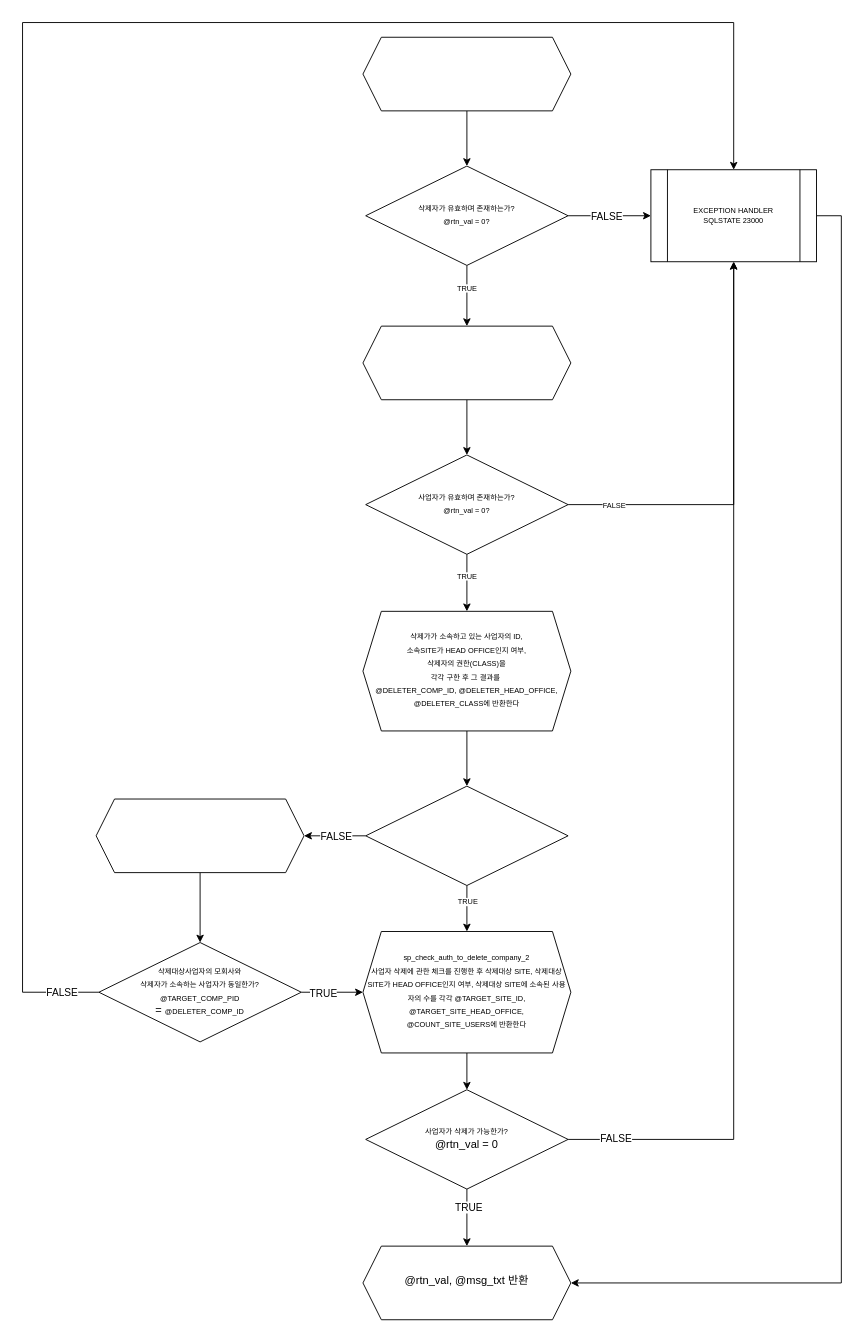
The diagram is 865 pixels wide and 1336 high, and some of its shapes have lost their labels. The shapes that lost their labels are listed below. From the top down, each one's centre as x and y in pixels, then its label:
At (x=466, y=73): "삭제자가 존재하고 유효한지 검사한 후 그 결과를 @rtn_val에 반환한다".
At (x=466, y=362): "사업자가 존재하고 유효한지 검사한 후 그 결과를 @rtn_val에 반환한다".
At (x=199, y=835): "삭제대상사업자의 모회사 ID를 구한 후 그 결과를 @TARGET_COMP_PID에 반환한다".
At (x=466, y=835): "삭제대상 사업자가 삭제자가 소속한 사업자인가? TARGET_COMP_ID = @DELETER_COMP_ID?".
